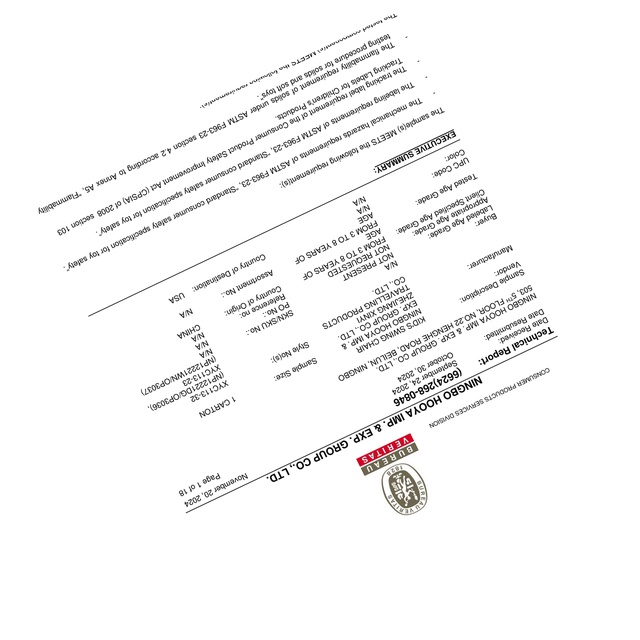bureau_veritas: (355, 429, 432, 520)
